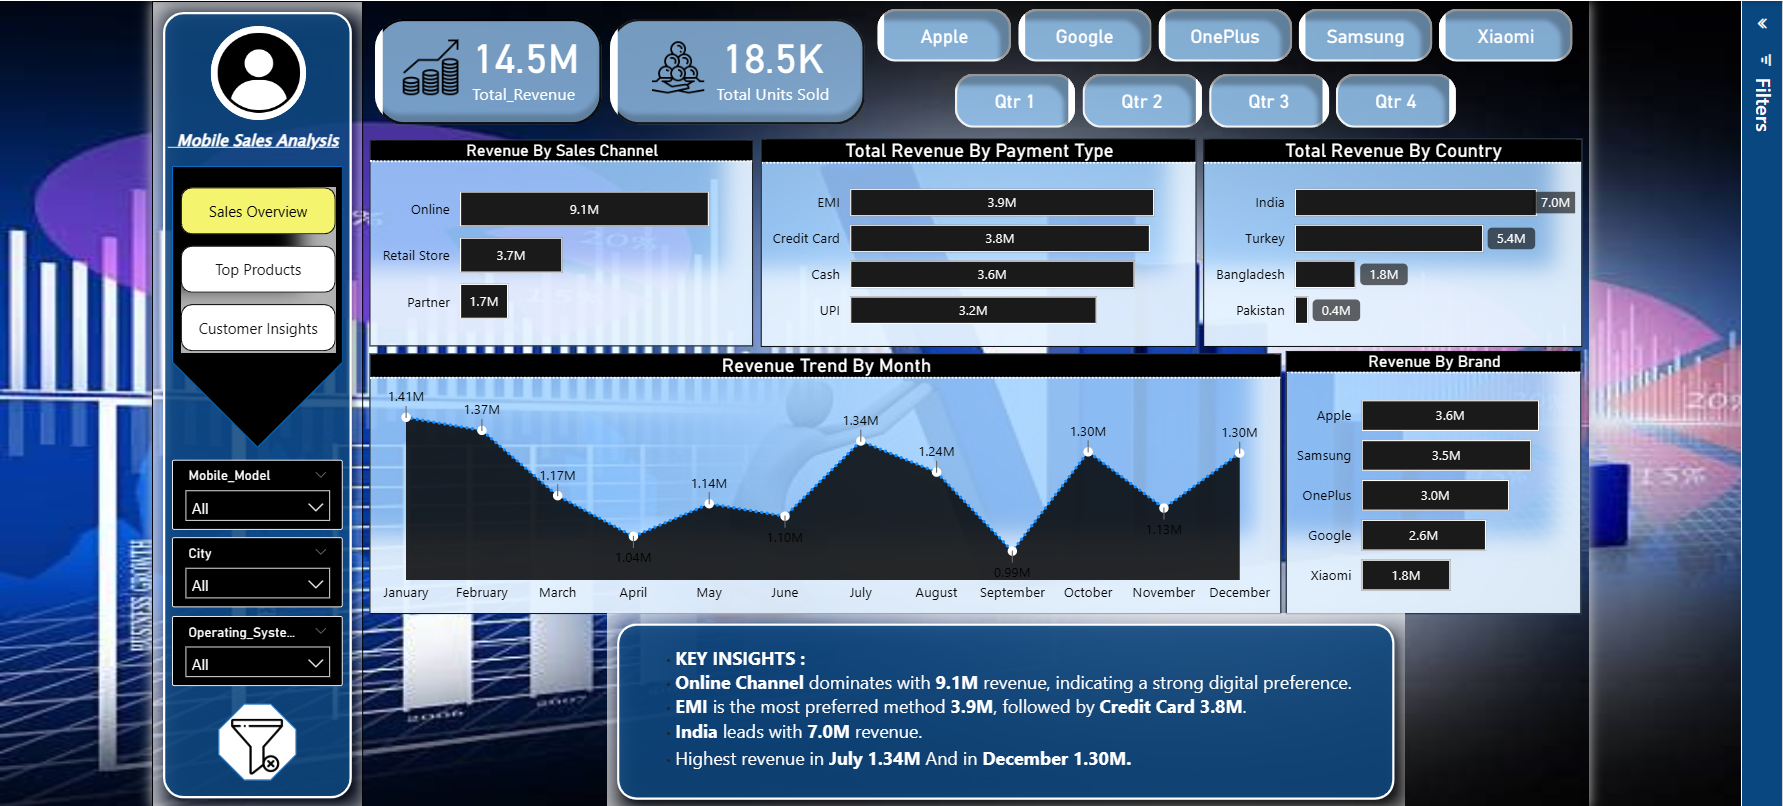

What the dashboard file says about the page in this screenshot:
{"tool":"powerbi","page":{"name":"Sales Overview","canvas":[1280,720],"ordinal":0},"visuals":[{"type":"clusteredBarChart","title":"Total Revenue By Country","fields":{"Category":["Fact_Sales.Country"],"Y":["Sum(Fact_Sales.Total_Revenue)"]},"box":[935.9,122.1,337.6,185.2],"z":0},{"type":"barChart","title":"Revenue By Brand","fields":{"Category":["Fact_Sales.Brand"],"Y":["Sum(Fact_Sales.Total_Revenue)"]},"box":[1010,311.5,263.5,234.6],"z":1000},{"type":"areaChart","title":"Revenue Trend By Month","fields":{"Y":["Sum(Fact_Sales.Total_Revenue)"],"Category":["Fact_Sales.Transaction_Date.Variation.Date Hierarchy.Month"]},"box":[193.5,314.2,812.4,231.9],"z":2000},{"type":"clusteredBarChart","title":"Revenue By Sales Channel","fields":{"Category":["Fact_Sales.Sales_Channel"],"Y":["Sum(Fact_Sales.Total_Revenue)"]},"box":[193.5,123.5,341.7,183.9],"z":3000},{"type":"advancedSlicerVisual","fields":{"Values":["Fact_Sales.Transaction_Date.Variation.Date Hierarchy.Quarter"]},"box":[710.4,60.1,569.3,58.9],"z":4000},{"type":"advancedSlicerVisual","fields":{"Values":["Fact_Sales.Brand"]},"box":[640.8,2.7,632.6,57.6],"z":5000},{"type":"clusteredBarChart","title":"Total Revenue By Payment Type","fields":{"Category":["Fact_Sales.Payment_Type"],"Y":["Sum(Fact_Sales.Total_Revenue)"]},"box":[542,122.1,388.3,185.2],"z":6000},{"type":"shape","box":[0,0,188.1,720.2],"z":7000},{"type":"cardVisual","fields":{"Data":["Sum(Fact_Sales.Total_Revenue)"]},"box":[193.5,11.3,212,104.3],"z":7000,"group":"g1"},{"type":"group","id":"g1","title":"Group 1","box":[193.5,11.3,446,104.3],"z":8000},{"type":"cardVisual","fields":{"Data":["Sum(Fact_Sales.Units_Sold)"]},"box":[402.2,11.3,237.2,104.3],"z":8000,"group":"g1"},{"type":"shape","box":[52.3,22.1,84.9,83.7],"z":9000},{"type":"image","box":[51.2,20.9,88.4,86],"z":10000},{"type":"shape","box":[405.2,545.5,710.2,174.8],"z":11000,"group":"g2"},{"type":"slicer","fields":{"Values":["Dim_Products.Mobile_Model"]},"box":[17.4,408.1,152.3,62.8],"z":12000},{"type":"slicer","fields":{"Values":["Fact_Sales.City"]},"box":[17.4,477.9,152.3,62.8],"z":13000},{"type":"slicer","fields":{"Values":["Dim_Products.Operating_System"]},"box":[17.4,547.7,152.3,62.8],"z":14000},{"type":"shape","box":[17.4,146.5,152.3,251.2],"z":15000},{"type":"textbox","box":[9.3,109.3,186,59.3],"z":16000},{"type":"shape","box":[59.3,625.6,69.8,68.6],"z":17000},{"type":"image","box":[62.8,634.9,61.6,59.3],"z":18000},{"type":"pageNavigator","box":[25.6,166.3,138.4,147.7],"z":19000},{"type":"textbox","box":[443,568.9,736.9,124.7],"z":20000,"group":"g2"},{"type":"group","id":"g2","title":"Group 2","box":[405.2,545.5,774.8,174.8],"z":20001}]}

Visuals, with their boxes on the page's 1280x720 design canvas (x1, y1, x2, y2). These are canvas units, not pixel positions in the 1783x806 screenshot, which may show the page scaled, cropped or inside an application window:
"Total Revenue By Country" clusteredBarChart: x1=936 y1=122 x2=1274 y2=307
"Revenue By Brand" barChart: x1=1010 y1=312 x2=1274 y2=546
"Revenue Trend By Month" areaChart: x1=194 y1=314 x2=1006 y2=546
"Revenue By Sales Channel" clusteredBarChart: x1=194 y1=124 x2=535 y2=307
advancedSlicerVisual - Fact_Sales.Transaction_Date.Variation.Date Hierarchy.Quarter: x1=710 y1=60 x2=1280 y2=119
advancedSlicerVisual - Fact_Sales.Brand: x1=641 y1=3 x2=1273 y2=60
"Total Revenue By Payment Type" clusteredBarChart: x1=542 y1=122 x2=930 y2=307
shape: x1=0 y1=0 x2=188 y2=720
cardVisual - Sum(Fact_Sales.Total_Revenue): x1=194 y1=11 x2=406 y2=116
"Group 1" group: x1=194 y1=11 x2=640 y2=116
cardVisual - Sum(Fact_Sales.Units_Sold): x1=402 y1=11 x2=639 y2=116
shape: x1=52 y1=22 x2=137 y2=106
image: x1=51 y1=21 x2=140 y2=107
shape: x1=405 y1=546 x2=1115 y2=720
slicer - Dim_Products.Mobile_Model: x1=17 y1=408 x2=170 y2=471
slicer - Fact_Sales.City: x1=17 y1=478 x2=170 y2=541
slicer - Dim_Products.Operating_System: x1=17 y1=548 x2=170 y2=610
shape: x1=17 y1=146 x2=170 y2=398
textbox: x1=9 y1=109 x2=195 y2=169
shape: x1=59 y1=626 x2=129 y2=694
image: x1=63 y1=635 x2=124 y2=694
pageNavigator: x1=26 y1=166 x2=164 y2=314
textbox: x1=443 y1=569 x2=1180 y2=694
"Group 2" group: x1=405 y1=546 x2=1180 y2=720
